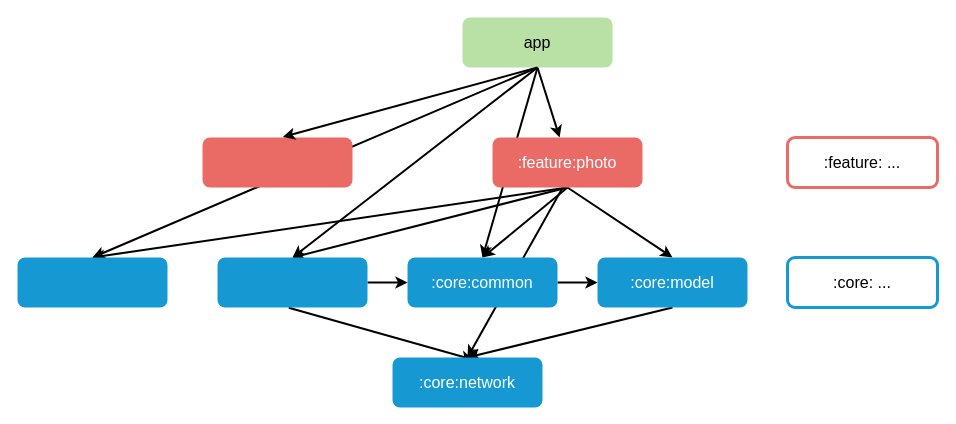
The diagram is 956 pixels wide and 424 high, and some of its shapes have lost their labels. The box of each missing label's shape, as (x1, y1, x2, y2) in pixels:
:core:data: (217, 257, 367, 307)
:core:designsystem: (17, 257, 167, 307)
:feature:contactme: (202, 137, 352, 187)
